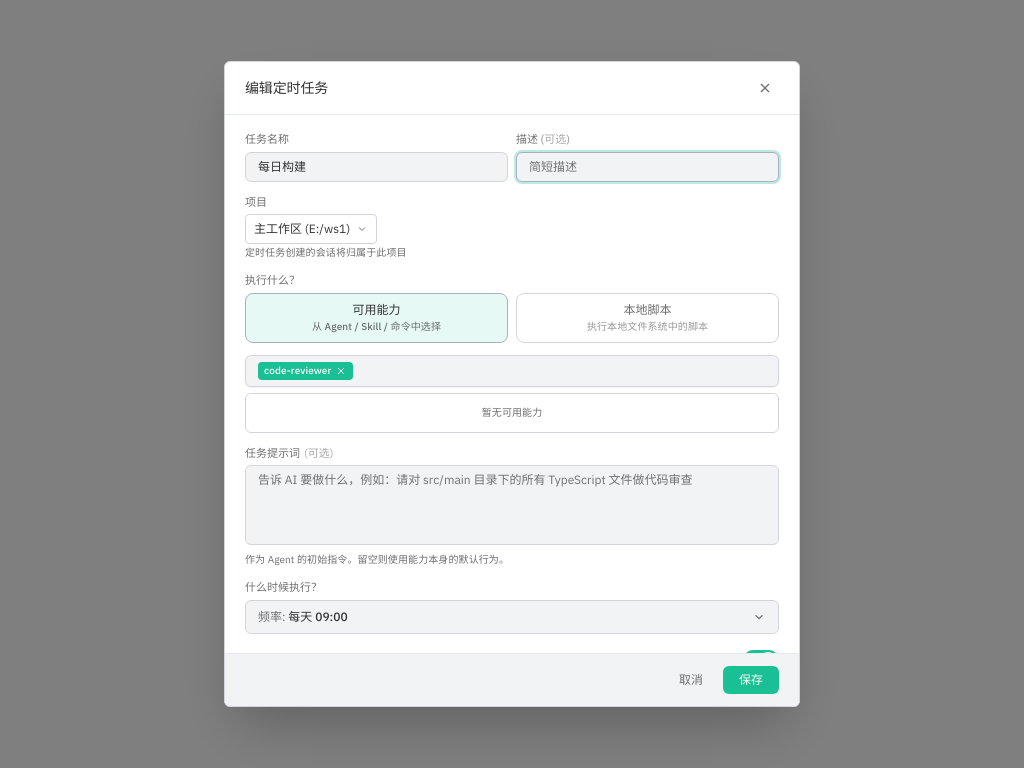
Test case: 项目下拉：不再有「默认项目」 › 列表里只有现存工作区，没有「默认项目」，也没有空值项
Click the button with aria-label "项目".
click(311, 229)  # box [245, 214, 377, 244]
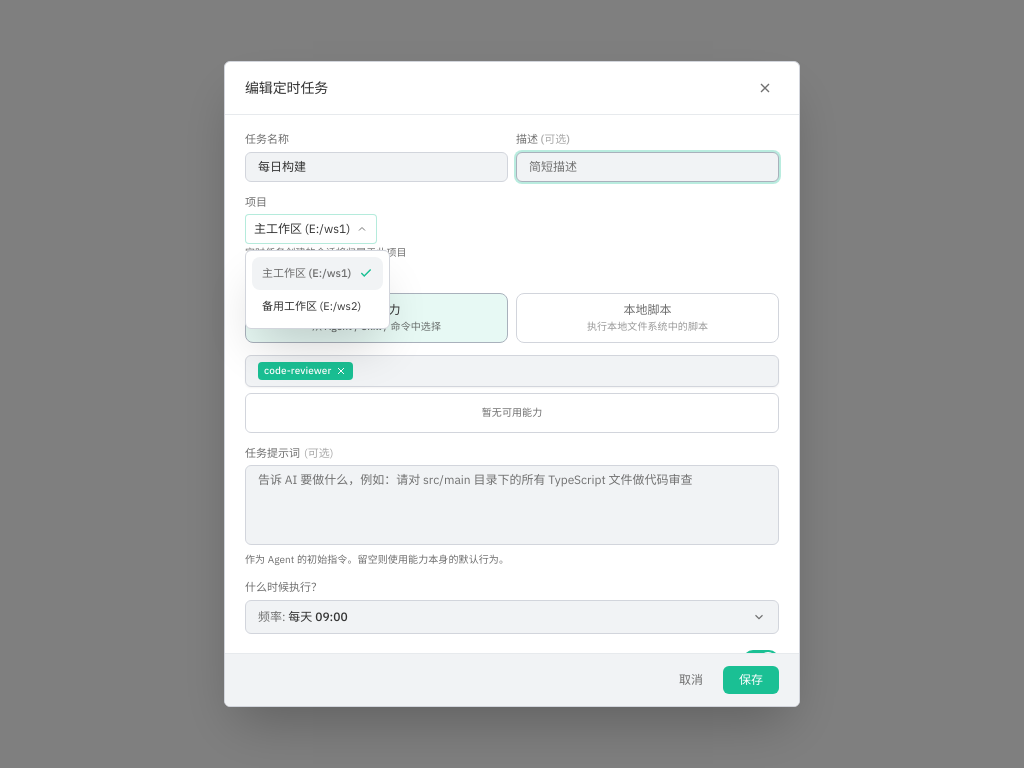
Now the options read "主工作区 (E:/ws1)", "备用工作区 (E:/ws2)", in this order, box [252, 257, 383, 290]; [252, 290, 383, 322]
